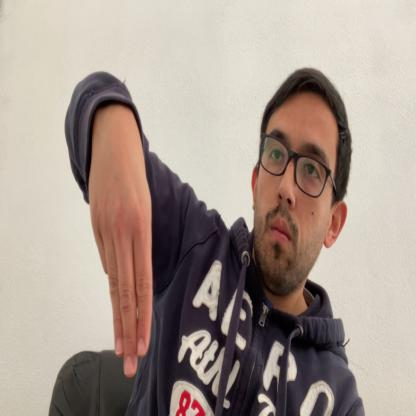M: (89, 104, 153, 379)
